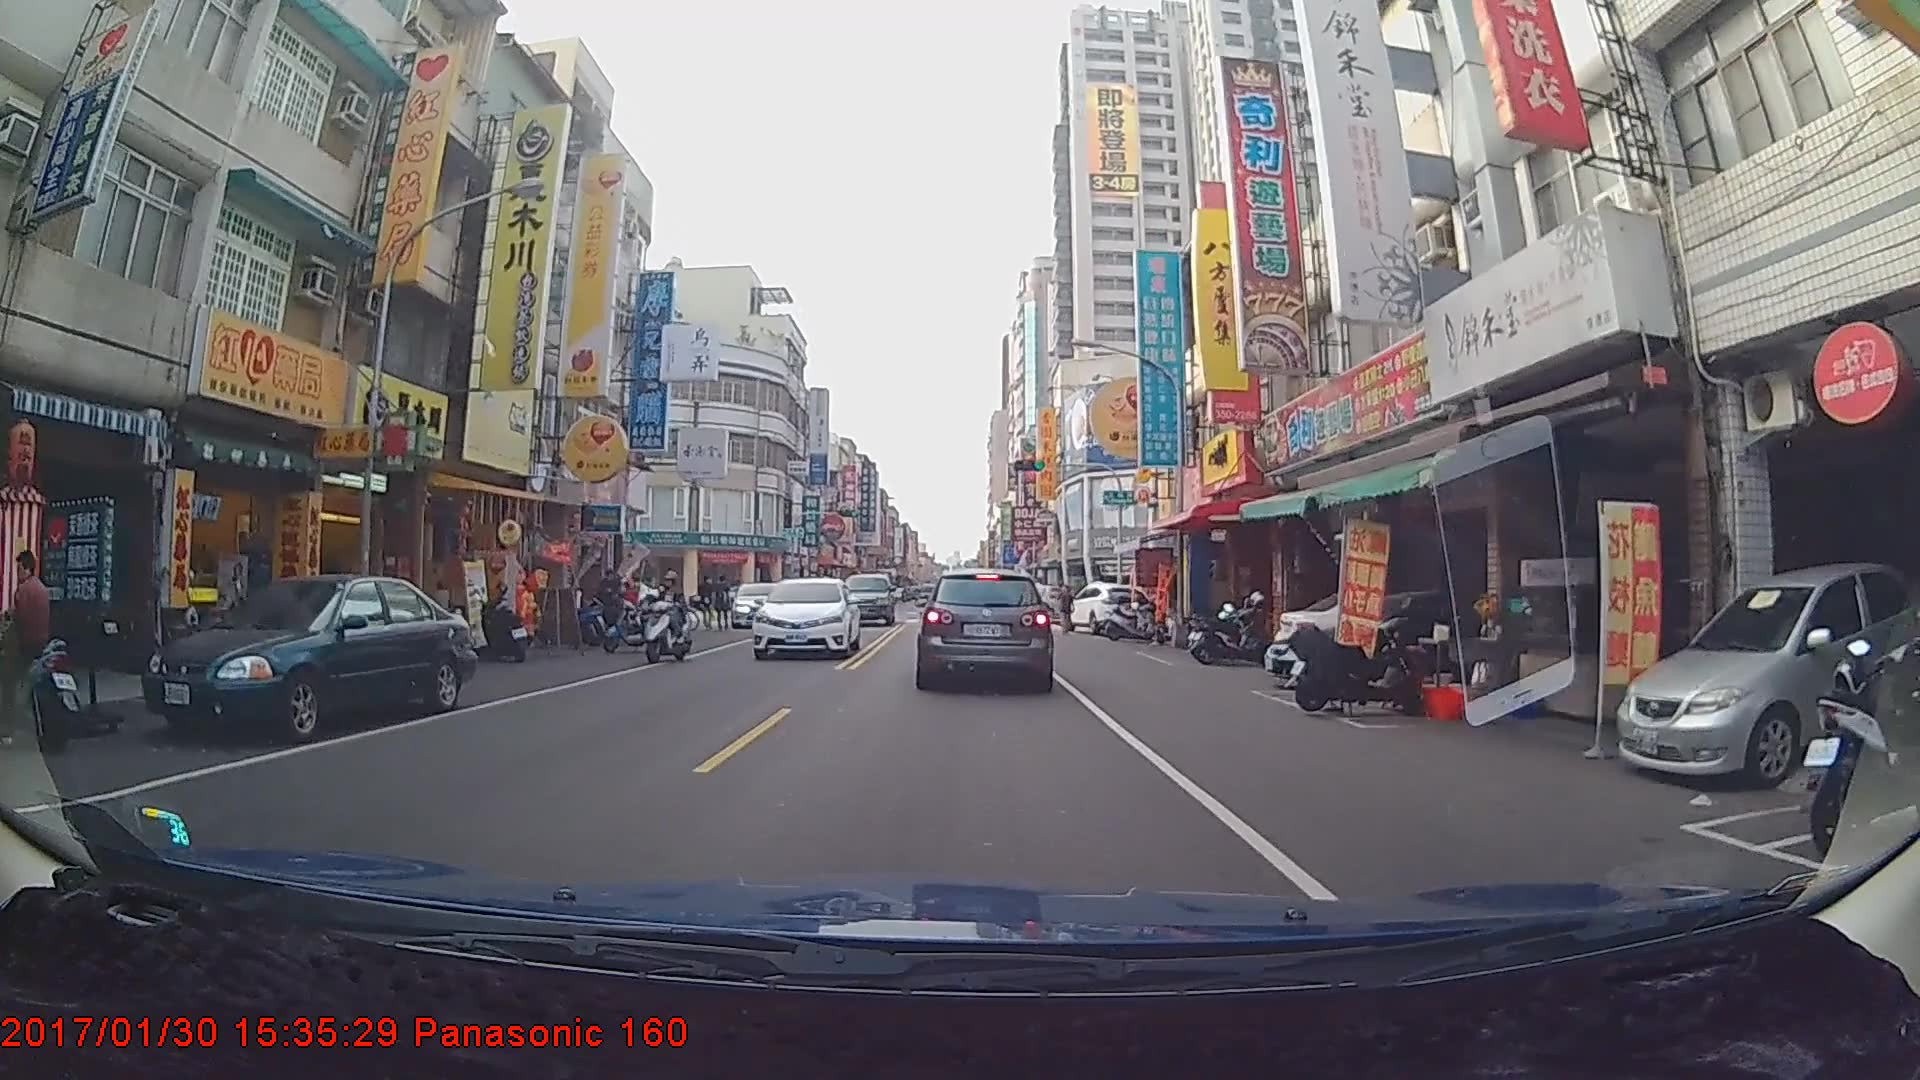pedestrian: (1055, 584, 1076, 637)
rider: (1, 551, 95, 747), (640, 569, 700, 669)
vehicle: (1605, 556, 1915, 787), (139, 570, 472, 743), (915, 567, 1053, 689), (750, 575, 860, 660), (1061, 582, 1156, 638), (836, 573, 895, 628), (729, 582, 786, 626)
